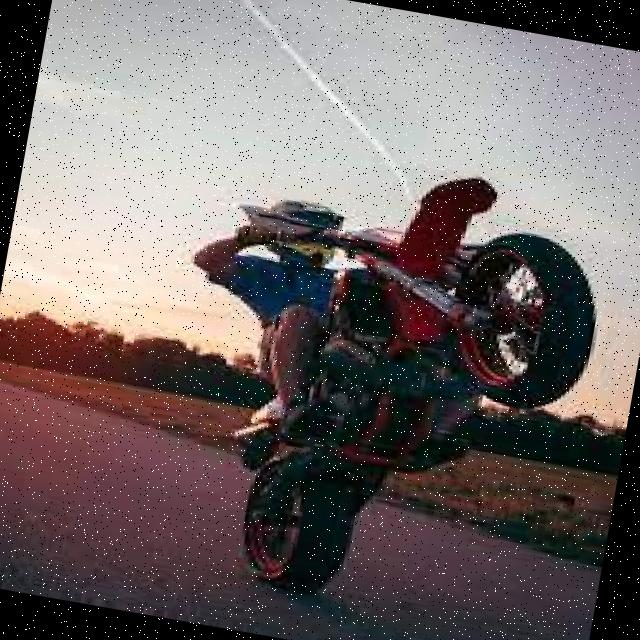Wheeling: (164, 133, 617, 640)
